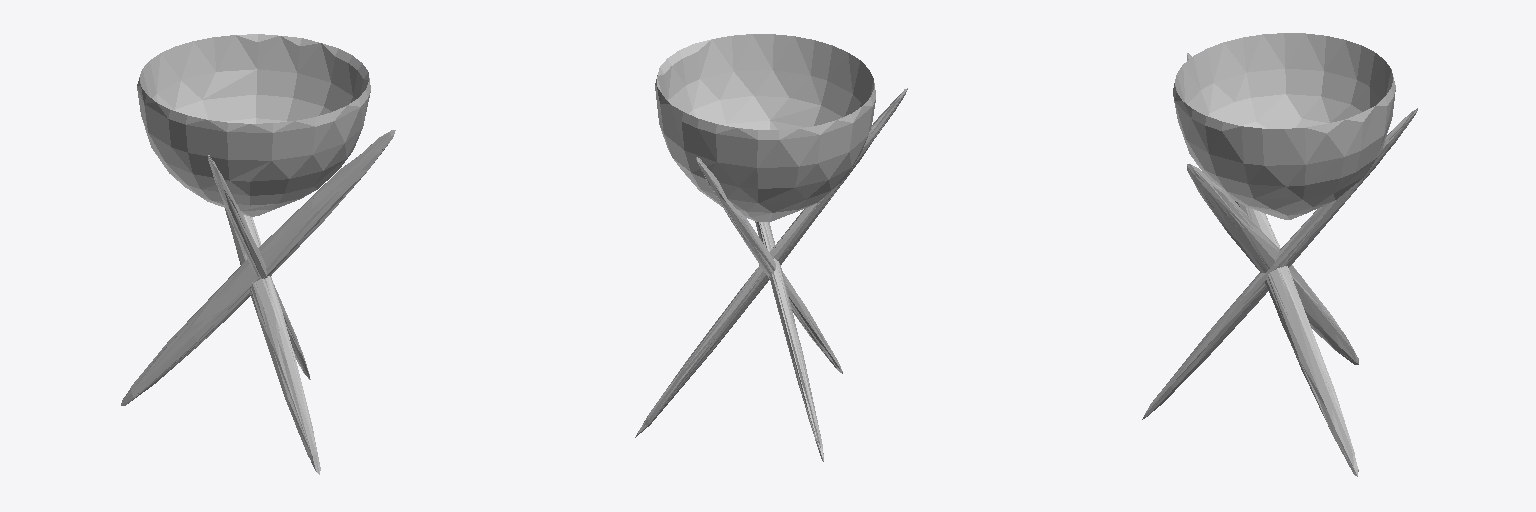
File: brazier.obj
The picture shows the model from 3 angles: view 1: azimuth 30°, elevation 25°; view 2: azimuth 150°, elevation 25°; view 3: azimuth 270°, elevation 25°; orthographic projection.
Visible parts, largest first — view 1: Line01, Ellipse03, Ellipse01, Ellipse02; view 2: Line01, Ellipse02, Ellipse01, Ellipse03; view 3: Line01, Ellipse02, Ellipse01, Ellipse03.
Boxes of the visible parts, box(x1,y1,x2,y2) form: Line01: box(137, 34, 370, 216); Ellipse03: box(121, 130, 395, 405); Ellipse01: box(225, 208, 320, 474); Ellipse02: box(208, 155, 310, 379); Line01: box(655, 34, 875, 221); Ellipse02: box(635, 88, 907, 437); Ellipse01: box(696, 157, 842, 373); Ellipse03: box(755, 221, 823, 461); Line01: box(1173, 33, 1395, 219); Ellipse02: box(1187, 53, 1358, 476); Ellipse01: box(1142, 108, 1417, 419); Ellipse03: box(1187, 164, 1358, 364).
Size of the model in its own units: 2.52 by 4.29 by 3.05.